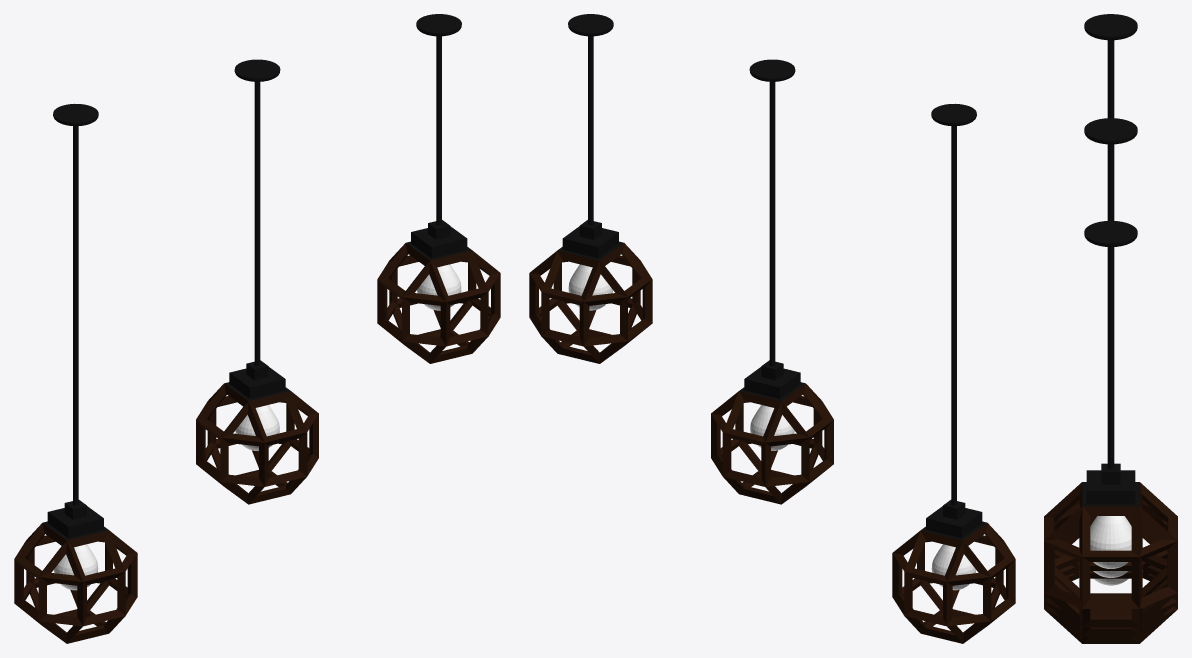
File: wireframeLamps.fbx
3 renders of one model, left to right at view 1: azimuth 30°, elevation 25°; view 2: azimuth 150°, elevation 25°; view 3: azimuth 270°, elevation 25°, orthographic. The views are drawn at different scales.
Visible parts, largest first — view 1: wireframeLampsLarge, wireframeLamps, wireframeLampsSmall; view 2: wireframeLampsLarge, wireframeLamps, wireframeLampsSmall; view 3: wireframeLampsSmall, wireframeLamps, wireframeLampsLarge.
Part boxes in pixels (x1,y1,x2,y2): wireframeLampsLarge: (14,103,137,643); wireframeLamps: (196,59,318,504); wireframeLampsSmall: (377,14,500,363); wireframeLampsLarge: (892,103,1015,643); wireframeLamps: (711,59,833,504); wireframeLampsSmall: (529,14,652,363); wireframeLampsSmall: (1044,220,1177,627); wireframeLamps: (1044,118,1177,636); wireframeLampsLarge: (1044,14,1177,643).
Size of the model in its own units: 130 by 140 by 27.88.
